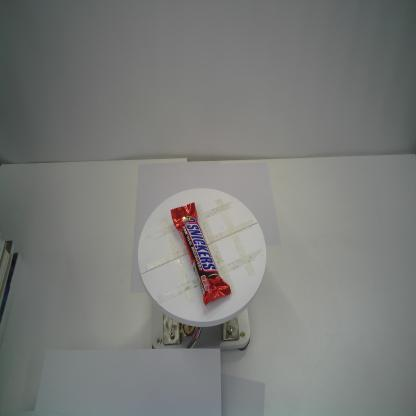Chocolate: (168, 200, 232, 308)
